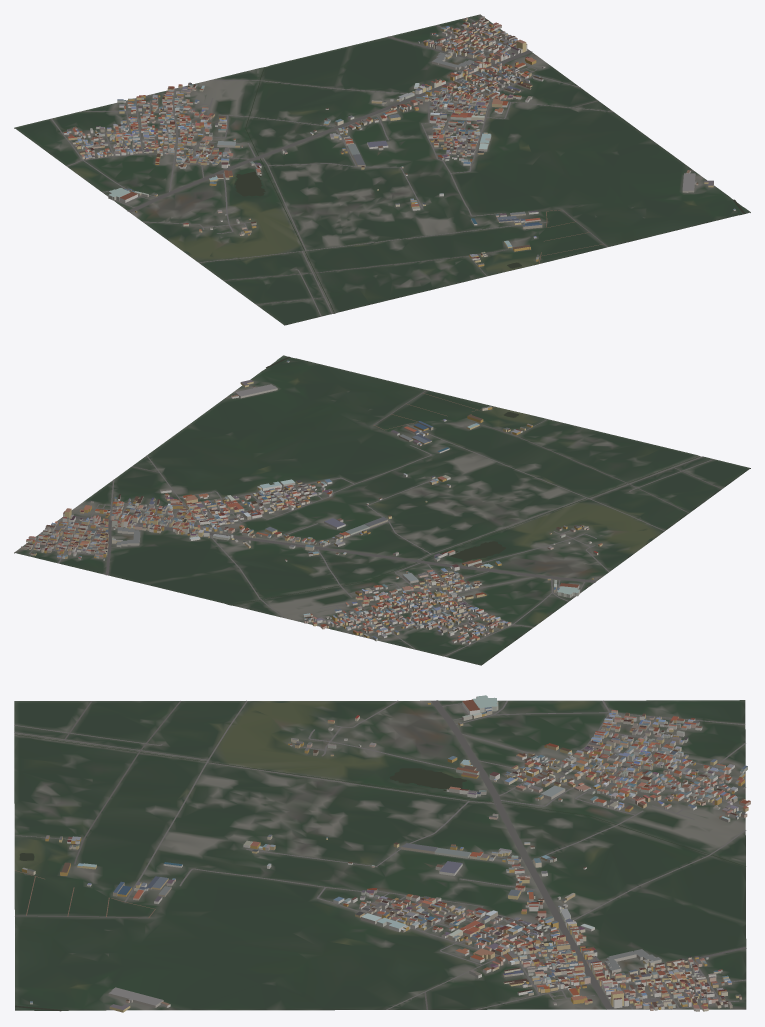
3 views of the same model, one above another, from view 1: azimuth 30°, elevation 25°; view 2: azimuth 150°, elevation 25°; view 3: azimuth 270°, elevation 25° (orthographic). The views are drawn at different scales.
Visible parts, largest first — view 1: ground, buildings, roads, water; view 2: ground, buildings, roads, water; view 3: ground, buildings, roads, water.
Part boxes in pixels (bbox=[...]): ground: bbox=[14, 14, 750, 325]; buildings: bbox=[63, 16, 735, 266]; roads: bbox=[51, 19, 613, 316]; water: bbox=[234, 67, 745, 313]; ground: bbox=[14, 355, 750, 665]; buildings: bbox=[21, 360, 602, 644]; roads: bbox=[29, 390, 722, 656]; water: bbox=[230, 356, 700, 605]; ground: bbox=[14, 700, 746, 1010]; buildings: bbox=[22, 695, 750, 1012]; roads: bbox=[14, 700, 746, 1009]; water: bbox=[14, 734, 745, 1011].
Bounding box in the file's own units: 1413 × 31.6 × 1413.
